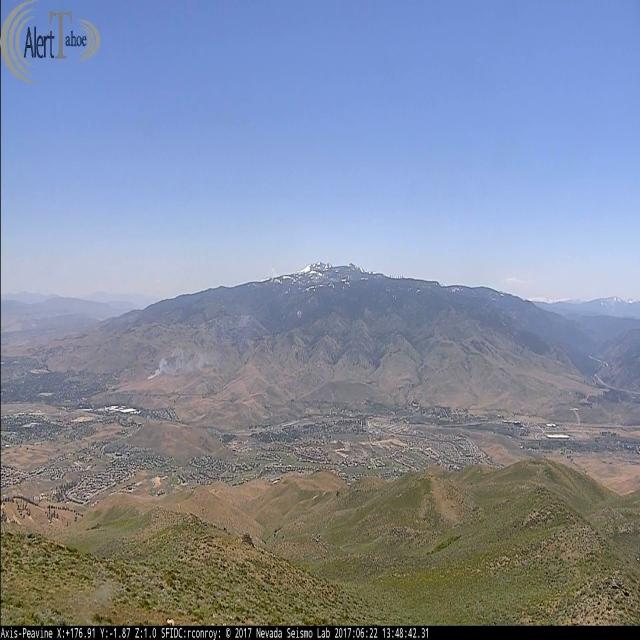smoke: (146, 346, 184, 382)
